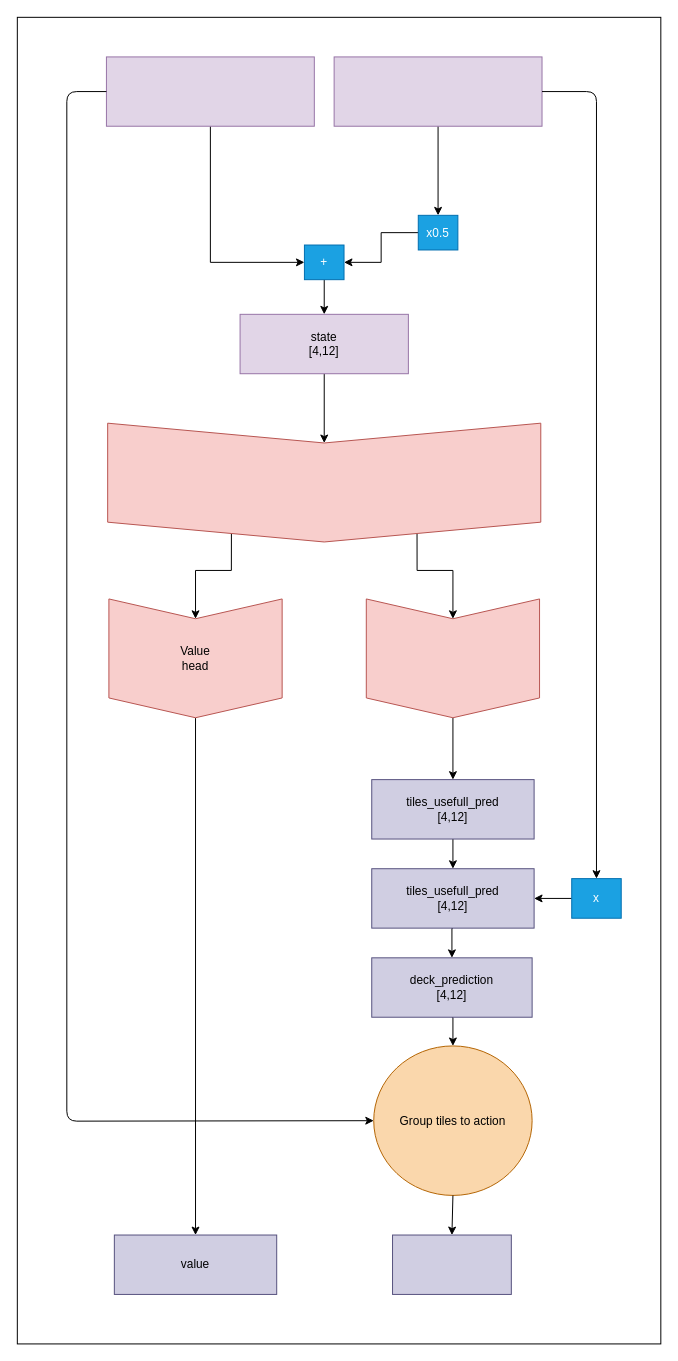
This 678x1361 diagram has some shape labels left out. Each missing label, with the centre of its shape:
"Action prediction head" belongs at point 452,658.
"board [4,12]" belongs at point 209,91.
"deck [4,12]" belongs at point 437,91.
"new_state_options [(state, value)]" belongs at point 451,1264.
"NnetCore" belongs at point 324,482.
